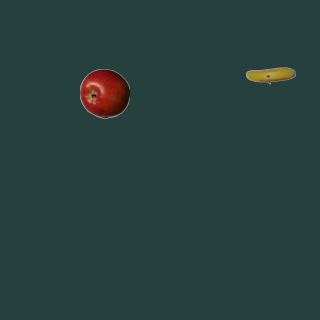Apple Braeburn: (79, 68, 129, 118)
Banana: (245, 50, 295, 100)
